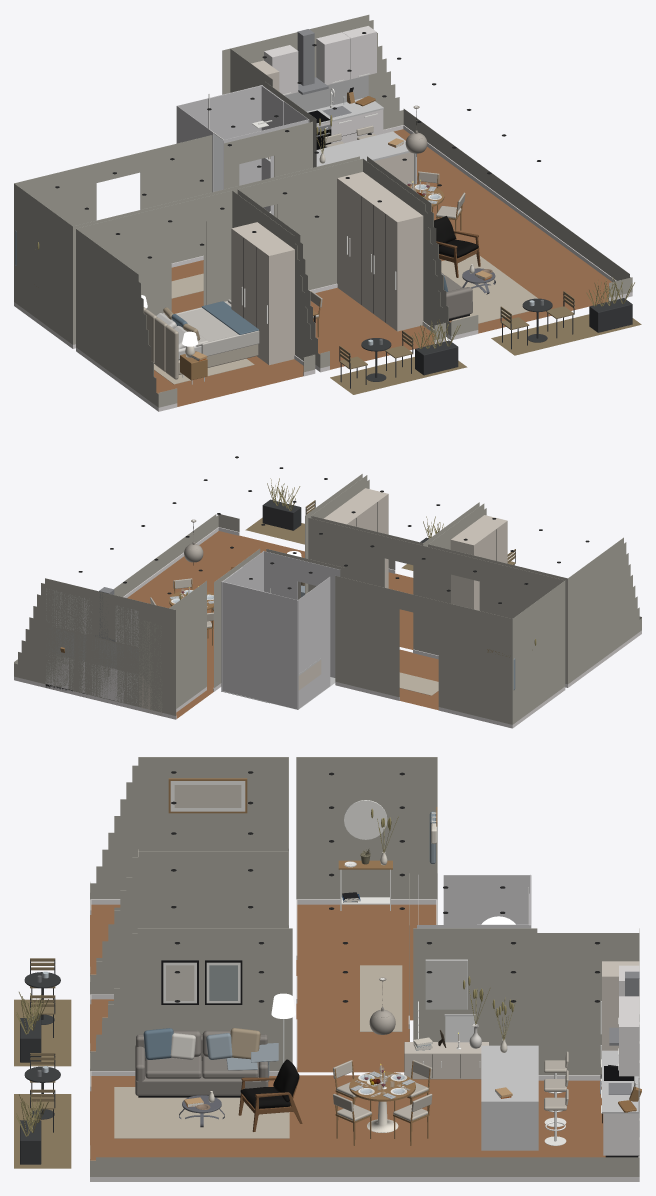
Rendered from unit-2.C-atlantic.glb.
3 renders of one model, top to bottom at view 1: azimuth 30°, elevation 25°; view 2: azimuth 150°, elevation 25°; view 3: azimuth 270°, elevation 25°, orthographic. The views are drawn at different scales.
Visible parts, largest first — view 1: int-wall, int-joineryTall, int-floor, int-joinery, int-showerWall, int-outdoor, int-rug, int-deck, int-skirting, int-worktop, int-bathWall, int-headboard (+13 smaller); view 2: int-wall, int-bathWall, int-joineryTall, int-floor, int-skirting, int-joinery, int-hallFloor, int-outdoor, int-splash, int-deck, int-rug, int-inst-grass|grassBlade; view 3: int-wall, int-floor, int-hallFloor, int-rug, int-worktop, int-sofa, int-deck, int-bathWall, int-skirting, int-joineryTall, int-joinery, int-outdoor (+25 smaller).
Part boxes in pixels (x1,y1,x2,y2): int-wall: [14, 14, 632, 407]; int-joineryTall: [231, 60, 423, 365]; int-floor: [154, 129, 611, 406]; int-joinery: [264, 26, 383, 143]; int-showerWall: [208, 85, 283, 211]; int-outdoor: [339, 294, 632, 388]; int-rug: [154, 254, 537, 384]; int-deck: [330, 314, 641, 394]; int-skirting: [14, 125, 632, 411]; int-worktop: [264, 98, 416, 184]; int-bathWall: [176, 85, 309, 215]; int-headboard: [143, 307, 258, 379]; int-wall: [14, 474, 641, 724]; int-bathWall: [221, 551, 340, 709]; int-joineryTall: [139, 488, 507, 715]; int-floor: [127, 531, 413, 718]; int-skirting: [14, 527, 641, 728]; int-joinery: [45, 588, 138, 703]; int-hallFloor: [399, 649, 438, 710]; int-outdoor: [262, 499, 515, 565]; int-splash: [49, 628, 138, 668]; int-deck: [245, 517, 413, 570]; int-rug: [399, 672, 438, 695]; int-inst-grass|grassBlade: [267, 478, 444, 538]; int-wall: [90, 757, 639, 1176]; int-floor: [90, 904, 605, 1160]; int-hallFloor: [296, 904, 436, 1072]; int-rug: [114, 965, 402, 1138]; int-worktop: [444, 1014, 639, 1150]; int-sofa: [135, 1030, 268, 1095]; int-deck: [14, 999, 71, 1168]; int-bathWall: [417, 874, 531, 928]; int-skirting: [90, 899, 639, 1181]; int-joineryTall: [138, 849, 639, 1079]; int-joinery: [603, 965, 639, 1155]; int-outdoor: [20, 960, 60, 1164].
Size of the model in its own units: 10.9 by 2.8 by 10.39.
